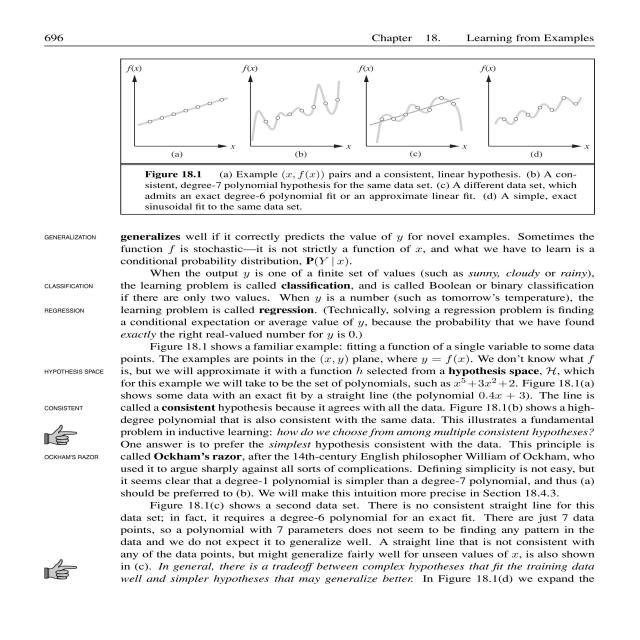diagram: (79, 53, 640, 215)
